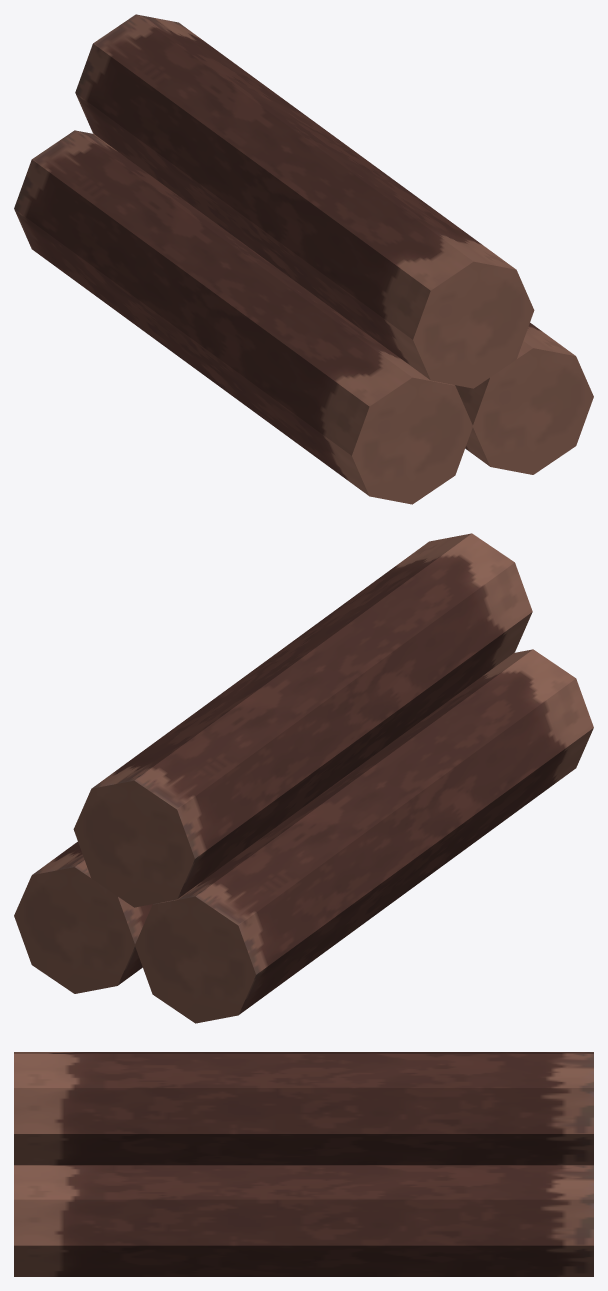
The model's file is Timber_Drop.fbx.
The picture shows the model from 3 angles, top to bottom: view 1: azimuth 30°, elevation 25°; view 2: azimuth 150°, elevation 25°; view 3: azimuth 270°, elevation 25°; orthographic projection. The views are drawn at different scales.
Visible parts, largest first — view 1: Timber3; view 2: Timber3; view 3: Timber3.
Boxes of the visible parts, x1=… form: Timber3: x1=14, y1=14, x2=593, y2=504; Timber3: x1=14, y1=533, x2=593, y2=1023; Timber3: x1=14, y1=1052, x2=593, y2=1276.
Size of the model in its own units: 82.06 by 73.82 by 198.
